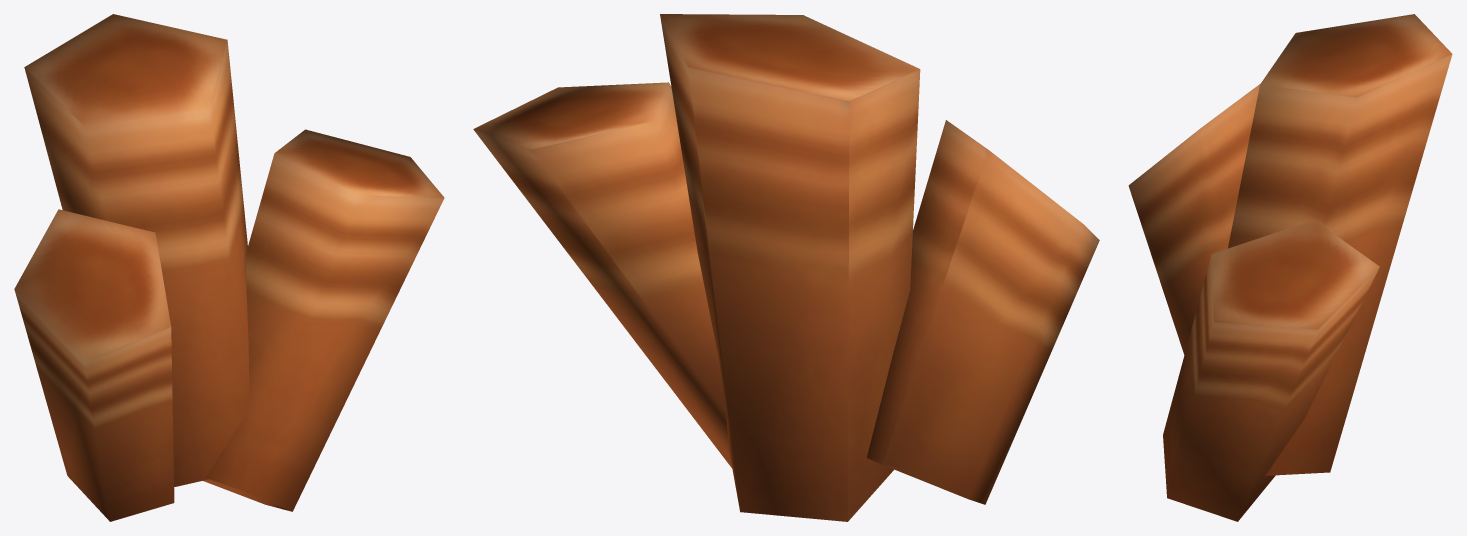
File: sea_etc_4.FBX
3 renders of one model, left to right at view 1: azimuth 30°, elevation 25°; view 2: azimuth 150°, elevation 25°; view 3: azimuth 270°, elevation 25°, orthographic. The views are drawn at different scales.
Visible parts, largest first — view 1: Object150; view 2: Object150; view 3: Object150.
Part boxes in pixels (x1,y1,x2,y2): Object150: (14,14,444,521); Object150: (473,14,1099,521); Object150: (1128,14,1452,521).
Bounding box in the file's own units: 49.22 × 30.53 × 46.07.
